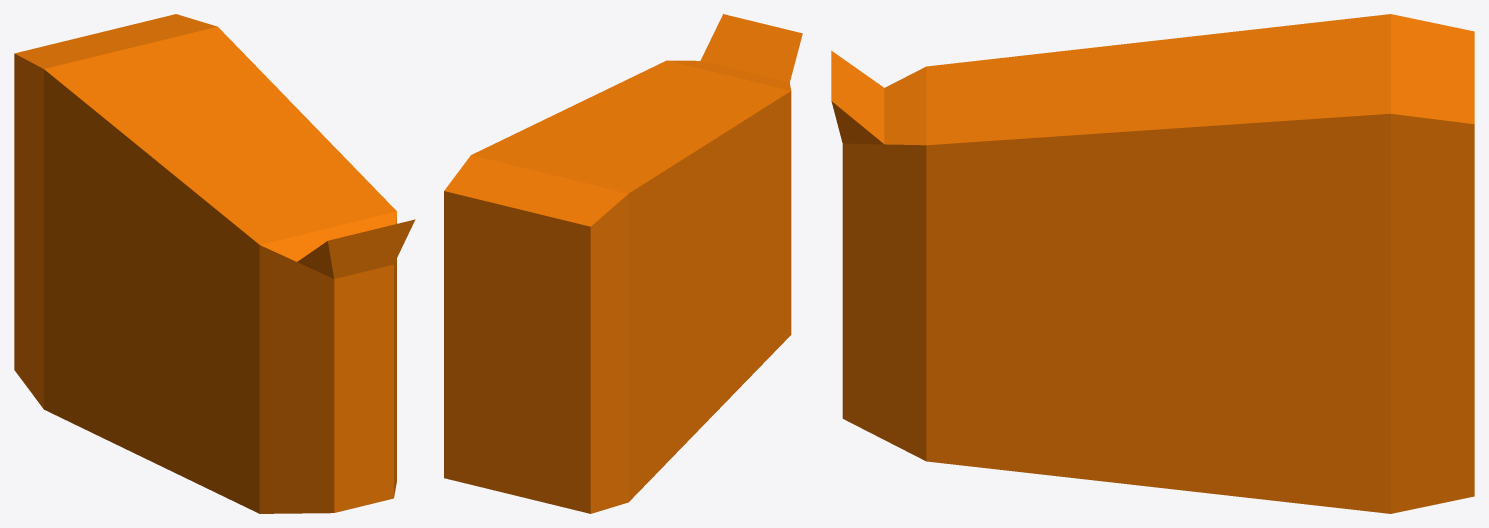
Rendered from bag.obj.
3 views of the same model, side by side, from view 1: azimuth 30°, elevation 25°; view 2: azimuth 150°, elevation 25°; view 3: azimuth 270°, elevation 25° (orthographic). The views are drawn at different scales.
Visible parts, largest first — view 1: bag.000_bag.001; view 2: bag.000_bag.001; view 3: bag.000_bag.001.
Part boxes in pixels (box(x1,y1,x2,y2)): bag.000_bag.001: box(14, 14, 415, 513); bag.000_bag.001: box(444, 14, 802, 513); bag.000_bag.001: box(831, 14, 1474, 513).
Size of the model in its own units: 0.1101 by 0.2059 by 0.2999.
